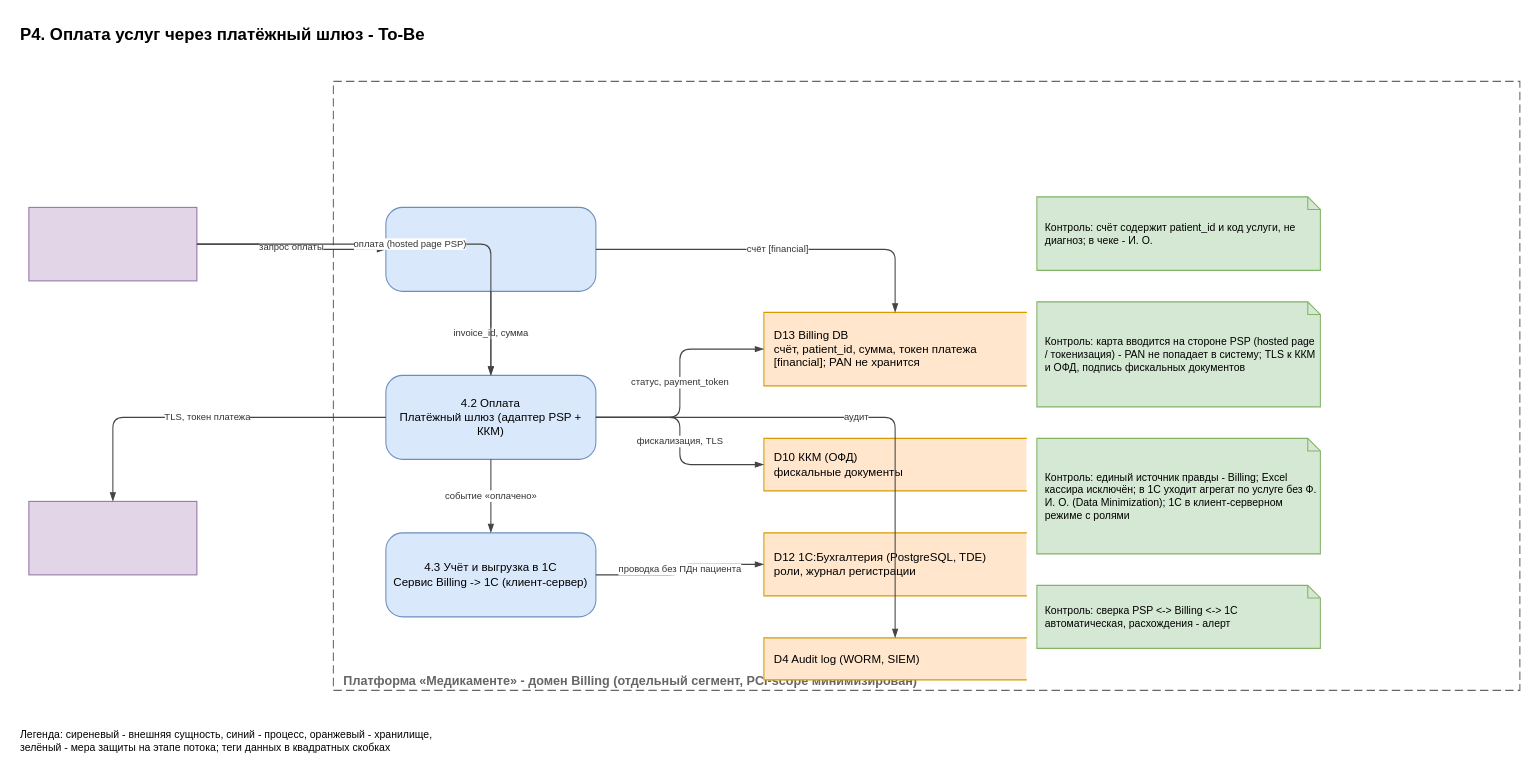
The diagram is 1538 pixels wide and 781 high, and some of its shapes have lost their labels. The centre of each missing label's shape, as x and y in pixels:
"4.1 Выставление счёта Сервис Billing" belongs at (490,248).
"Пациент (ЛК / касса)" belongs at (112,243).
"Платёжный провайдер (PCI DSS)" belongs at (112,537).
